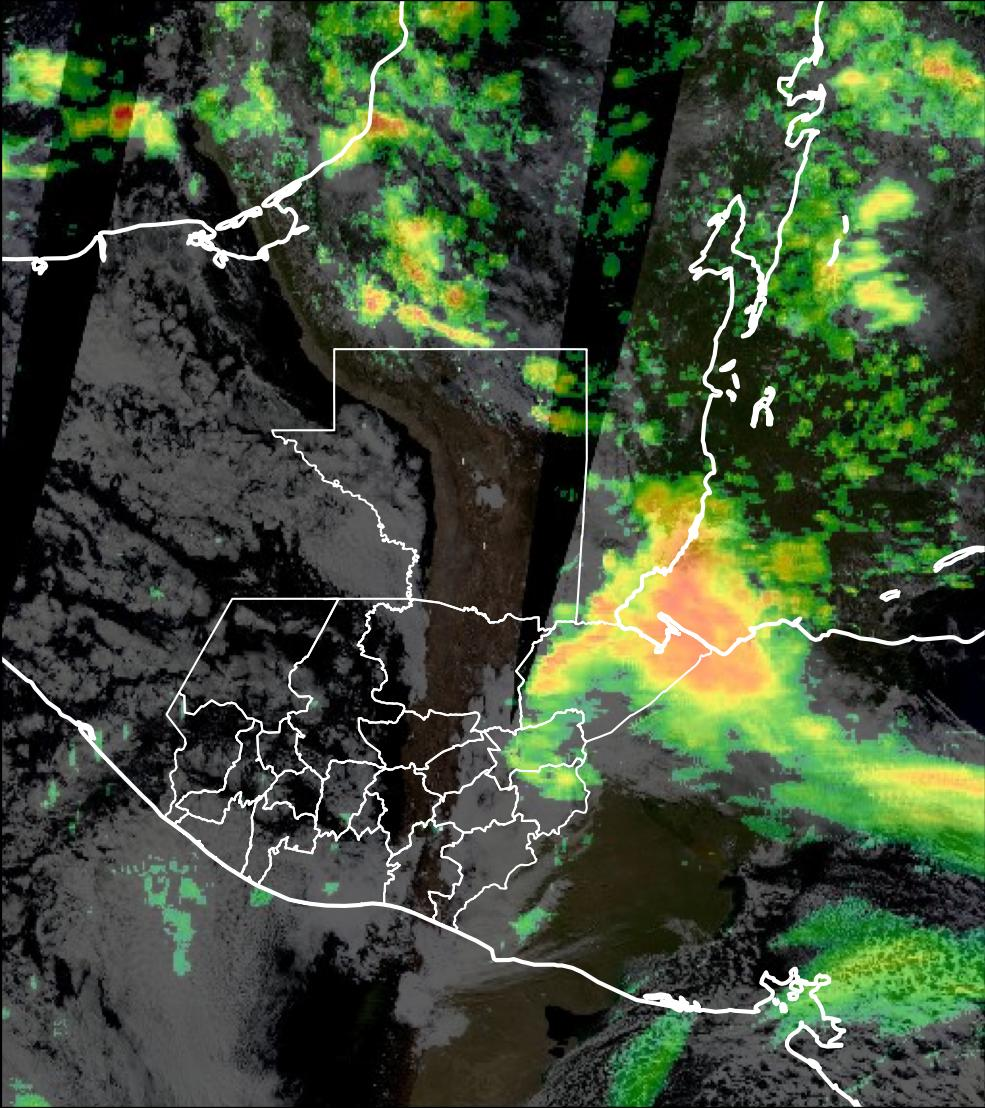precipitacion: (611, 502, 779, 712)
